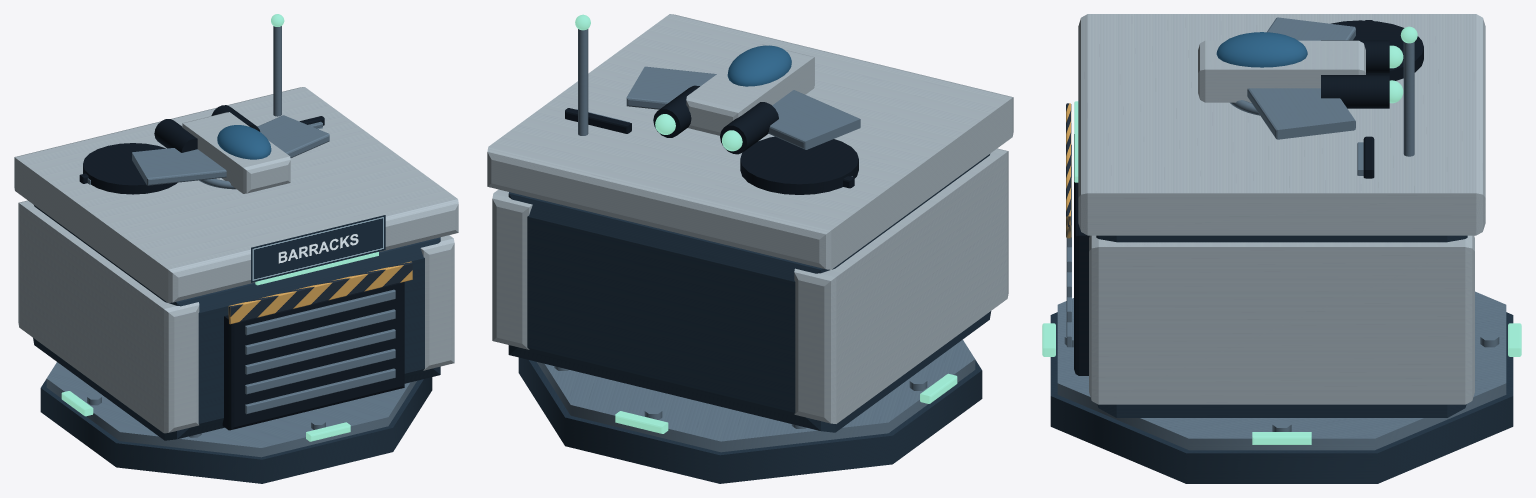
The model's file is barracks.glb.
3 renders of one model, left to right at view 1: azimuth 30°, elevation 25°; view 2: azimuth 150°, elevation 25°; view 3: azimuth 270°, elevation 25°, orthographic. The views are drawn at different scales.
Visible parts, largest first — view 1: Ceramic titanium armor, Brushed titanium, Graphite composite, Carbon machinery, Identification BARRACKS, Safety stripe, Status light, Blue optical glass; view 2: Ceramic titanium armor, Graphite composite, Brushed titanium, Carbon machinery, Status light (×2), Blue optical glass; view 3: Ceramic titanium armor, Graphite composite, Brushed titanium, Carbon machinery, Status light (×2), Blue optical glass, Safety stripe.
Boxes of the visible parts, left/top/right/bottom form: Ceramic titanium armor: left=14, top=87, right=458, bottom=433; Brushed titanium: left=46, top=26, right=416, bottom=457; Graphite composite: left=33, top=205, right=440, bottom=483; Carbon machinery: left=79, top=105, right=404, bottom=430; Identification BARRACKS: left=251, top=215, right=385, bottom=282; Safety stripe: left=228, top=261, right=412, bottom=324; Status light: left=61, top=252, right=378, bottom=441; Blue optical glass: left=217, top=125, right=271, bottom=159; Ceramic titanium armor: left=487, top=14, right=1013, bottom=423; Graphite composite: left=508, top=154, right=991, bottom=483; Brushed titanium: left=537, top=29, right=975, bottom=452; Carbon machinery: left=565, top=85, right=858, bottom=194; Status light (×2): left=575, top=14, right=957, bottom=433; Blue optical glass: left=727, top=45, right=791, bottom=86; Ceramic titanium armor: left=1078, top=14, right=1485, bottom=404; Graphite composite: left=1050, top=235, right=1513, bottom=483; Brushed titanium: left=1057, top=17, right=1506, bottom=450; Carbon machinery: left=1074, top=20, right=1423, bottom=375; Status light (×2): left=1042, top=26, right=1521, bottom=444; Blue optical glass: left=1216, top=32, right=1307, bottom=67; Safety stripe: left=1066, top=103, right=1071, bottom=238.
Bounding box in the file's own units: 2.26 × 2.16 × 2.26.
Materials: 8 (6 with a texture image).
